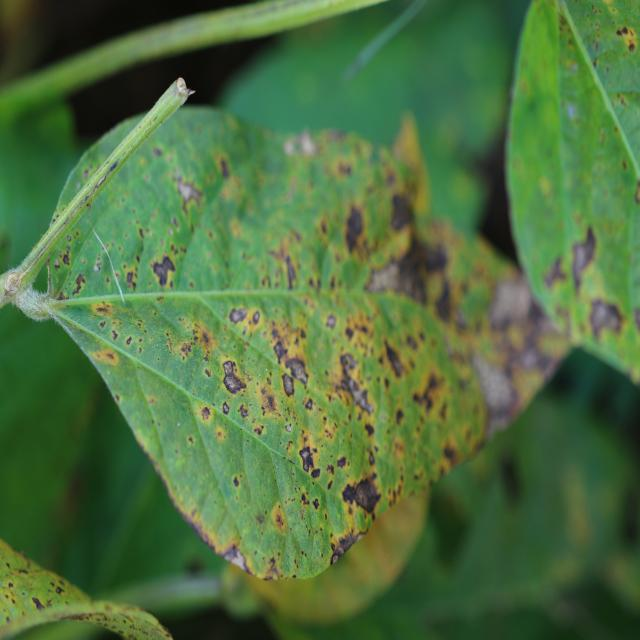Bacterial_Blight: (211, 353, 251, 402), (589, 299, 623, 339), (279, 350, 310, 393), (571, 231, 596, 284), (412, 371, 443, 412), (517, 339, 553, 374), (331, 529, 365, 564), (352, 475, 382, 514), (344, 203, 365, 253), (345, 380, 373, 415), (434, 280, 455, 323), (390, 191, 412, 232), (422, 239, 448, 273), (151, 254, 176, 288), (221, 544, 250, 573), (544, 254, 568, 289), (383, 341, 404, 379), (176, 178, 202, 206), (615, 25, 637, 51), (3, 270, 22, 299), (90, 347, 119, 365), (298, 446, 316, 474), (263, 557, 280, 581), (71, 271, 87, 296), (285, 256, 297, 289), (272, 503, 286, 530), (228, 307, 248, 324), (179, 341, 195, 361), (443, 443, 457, 465), (175, 77, 190, 96), (218, 157, 230, 178), (200, 329, 212, 348), (126, 270, 137, 290), (31, 597, 46, 611), (106, 160, 119, 175), (325, 313, 337, 328), (395, 408, 405, 425), (95, 305, 111, 315), (61, 250, 71, 266), (200, 406, 211, 420), (253, 424, 264, 437), (337, 455, 347, 469), (216, 427, 226, 441), (111, 329, 119, 341), (312, 498, 320, 510), (636, 180, 640, 204), (204, 368, 212, 379), (17, 568, 29, 575), (621, 159, 628, 171), (55, 586, 63, 595), (285, 423, 292, 433), (54, 259, 60, 270), (233, 476, 239, 487), (126, 336, 132, 346), (8, 581, 14, 589), (114, 394, 120, 402), (86, 200, 91, 209), (6, 562, 11, 569)
Soybean: (49, 109, 557, 580)
